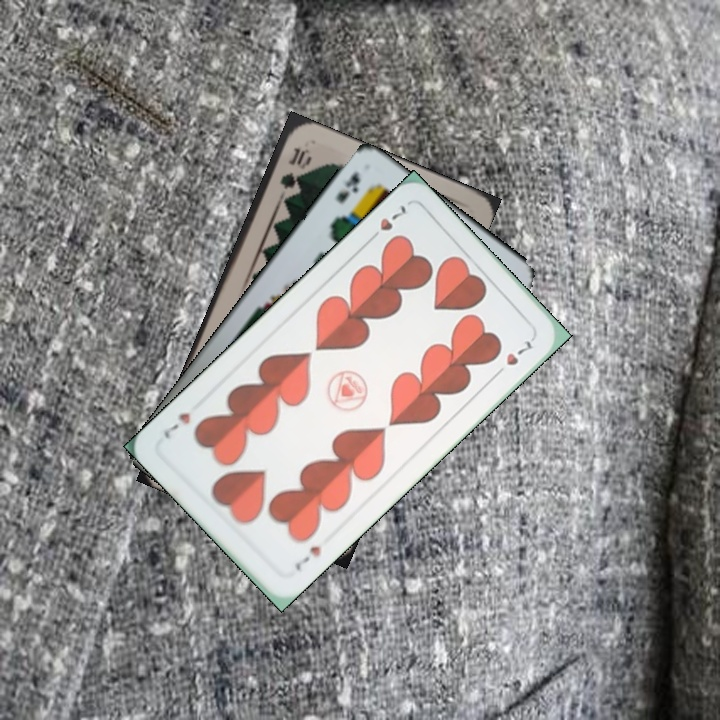EK: (331, 167, 363, 207)
G10: (276, 143, 311, 192)
H7: (364, 200, 409, 245), (291, 541, 323, 574)
